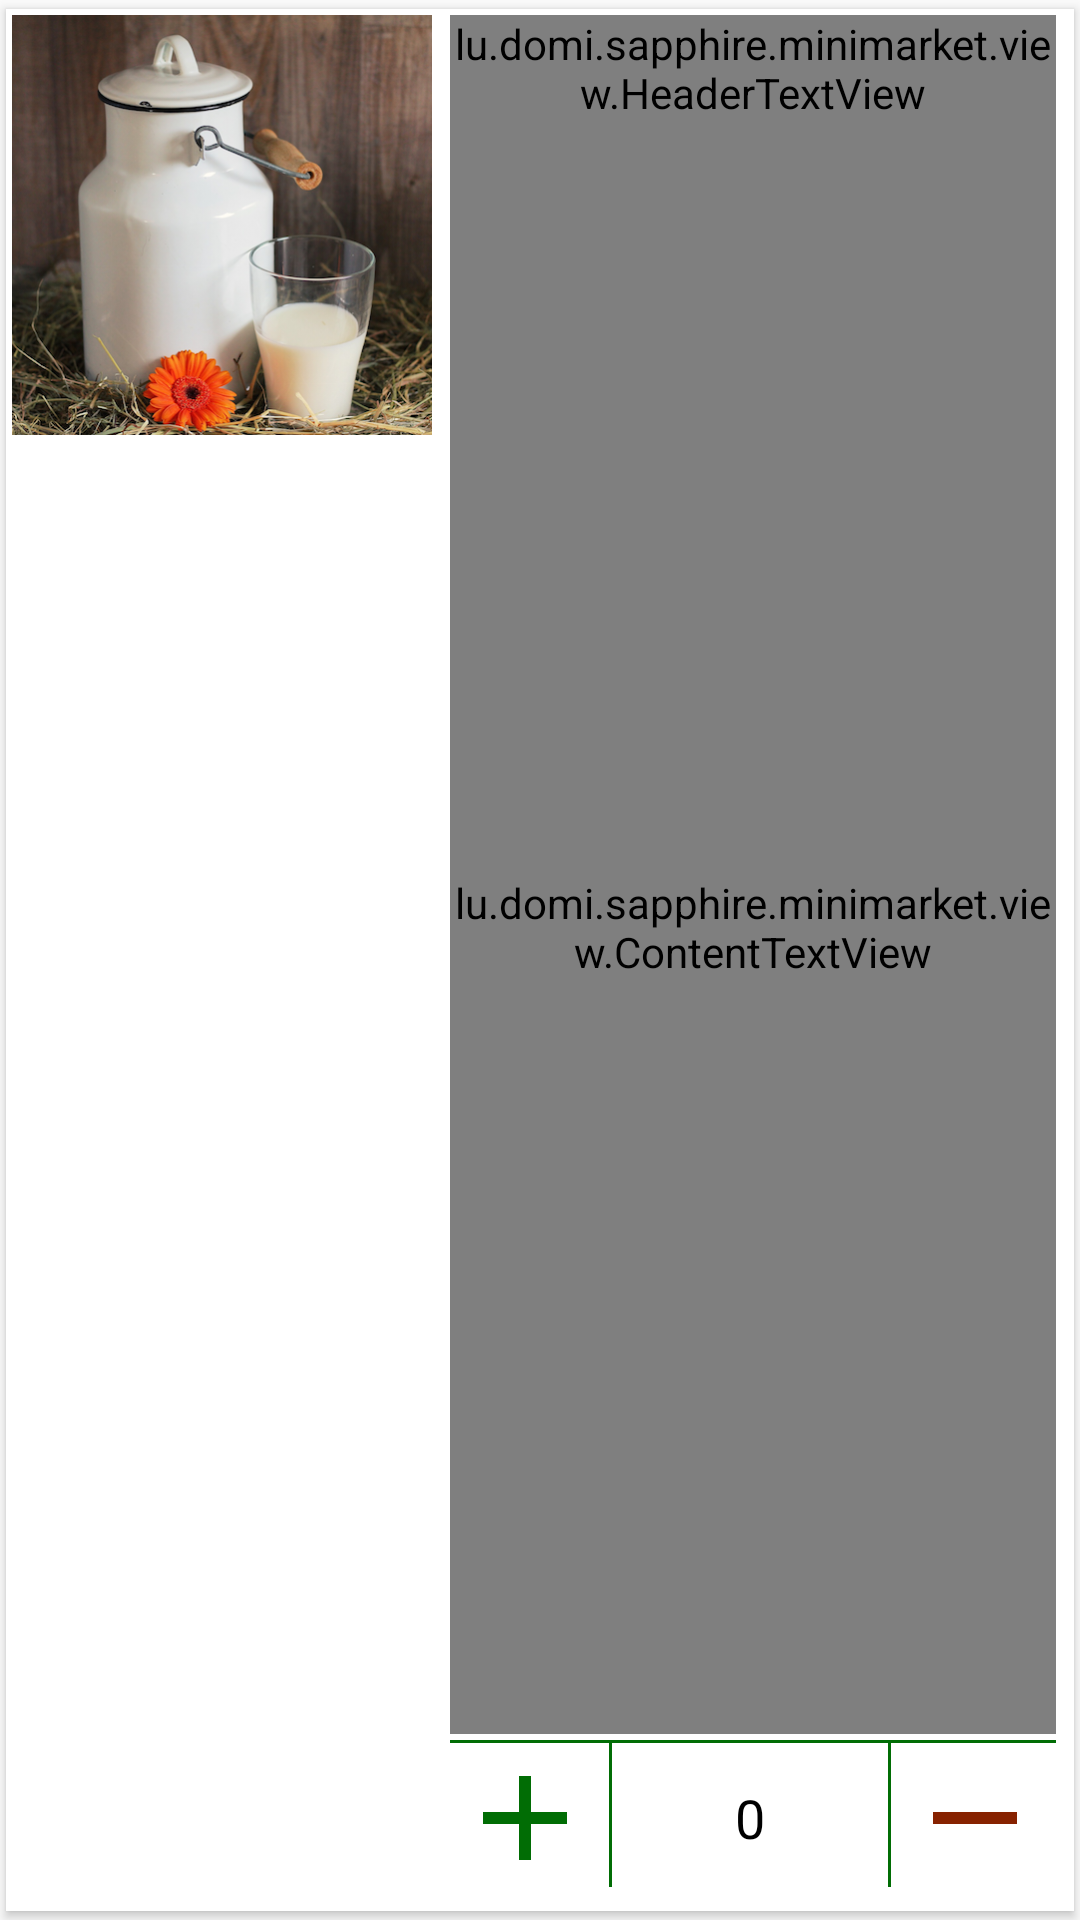

Where to tap for icons on this 1080*1920 app screen, as (x=x, y=y):
Increase product quantity by one: (x=525, y=1818)
